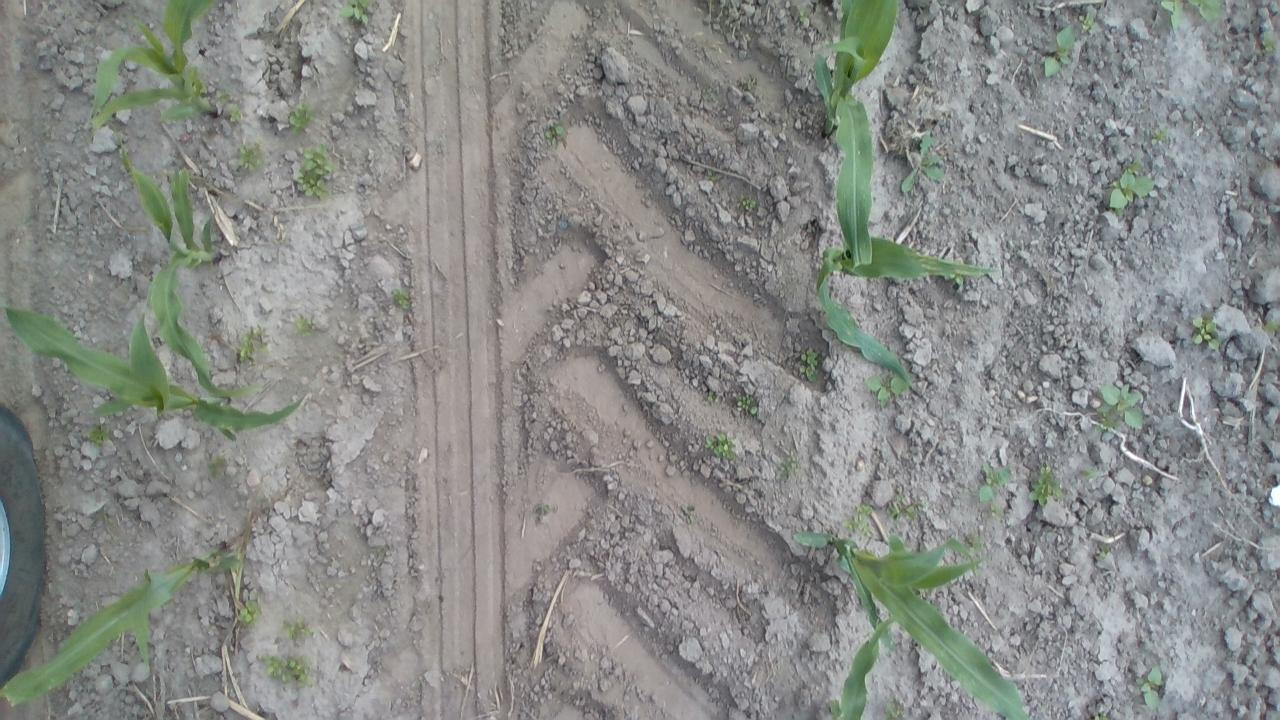Maize: (792, 527, 1030, 720), (0, 301, 310, 444), (2, 540, 244, 712), (114, 129, 266, 398), (808, 231, 1006, 395), (807, 0, 899, 268), (86, 0, 219, 135), (828, 613, 894, 720)
Weeds: (898, 131, 947, 193), (1094, 382, 1144, 432), (292, 141, 334, 199), (258, 650, 316, 691), (1040, 21, 1079, 76), (1104, 170, 1152, 210), (1026, 460, 1065, 509), (881, 485, 928, 525), (976, 459, 1014, 503), (1132, 662, 1163, 710), (868, 372, 908, 408), (234, 322, 266, 366), (838, 500, 876, 536), (280, 614, 314, 650), (1191, 314, 1221, 352), (1160, 0, 1190, 35), (798, 346, 824, 386), (235, 138, 262, 176), (701, 430, 735, 460), (774, 448, 801, 482), (339, 0, 373, 26), (235, 600, 264, 628), (1190, 0, 1226, 22), (286, 104, 315, 130), (292, 311, 316, 339), (86, 422, 112, 447), (389, 284, 411, 311), (205, 454, 227, 479), (1148, 124, 1172, 146), (734, 193, 759, 214), (966, 532, 988, 555), (735, 393, 759, 414), (884, 698, 908, 719), (544, 122, 564, 145), (532, 502, 552, 524), (793, 3, 812, 26), (1080, 7, 1096, 33), (1080, 464, 1102, 482), (227, 102, 243, 126), (988, 502, 1004, 525), (1259, 34, 1276, 54), (680, 504, 696, 525), (738, 72, 756, 90), (1092, 542, 1110, 560), (1122, 158, 1144, 172), (1262, 318, 1280, 332), (706, 83, 721, 98), (214, 88, 229, 103), (706, 390, 719, 404), (706, 168, 716, 182)
